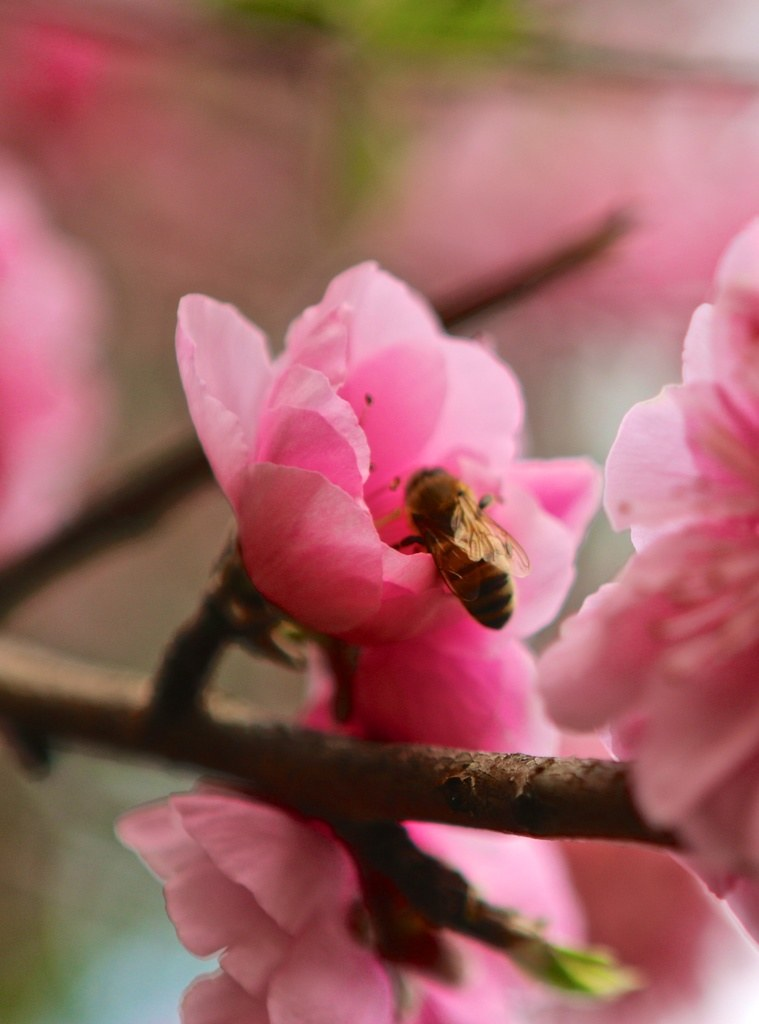bee: (387, 451, 539, 644)
insect: (156, 244, 625, 767), (113, 701, 758, 1023), (527, 212, 758, 960), (0, 148, 111, 575)
